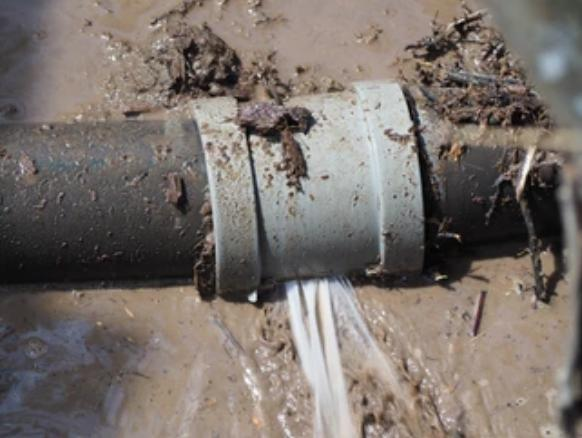pipe burst: (278, 275, 387, 438)
water accumulation: (1, 0, 582, 438), (581, 89, 582, 114)
